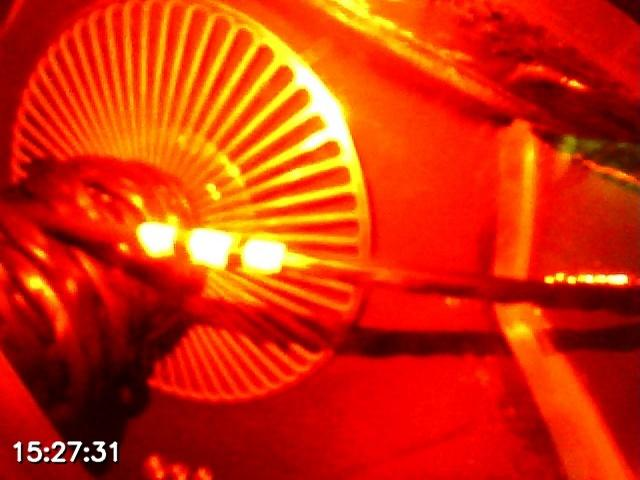white-dots: (134, 220, 287, 276)
